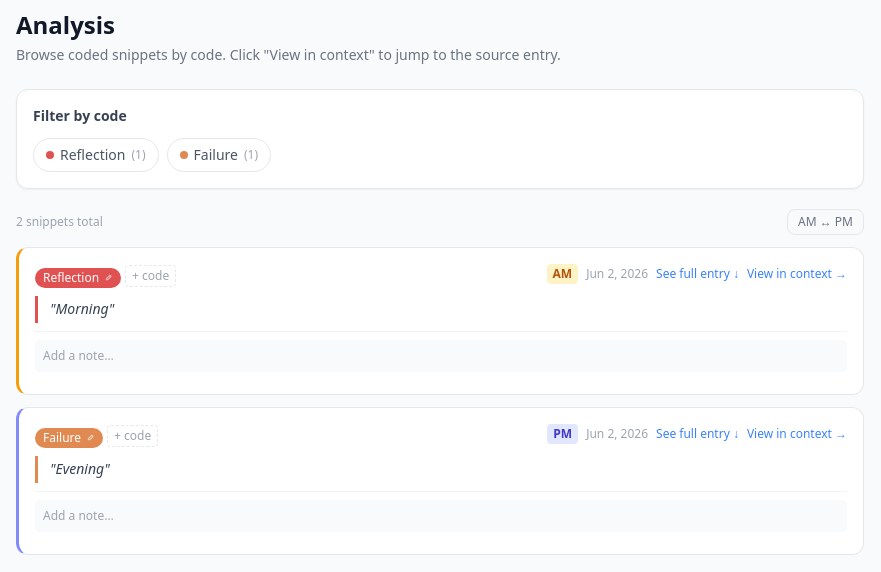
Test: AnalysisView – AM ↔ PM compare mode › disables compare mode when the button is clicked again
The width and height of the screenshot is (881, 572).
Click the button "AM ↔ PM" at point(826, 222), box top-left (787, 209), bottom-right (864, 235)
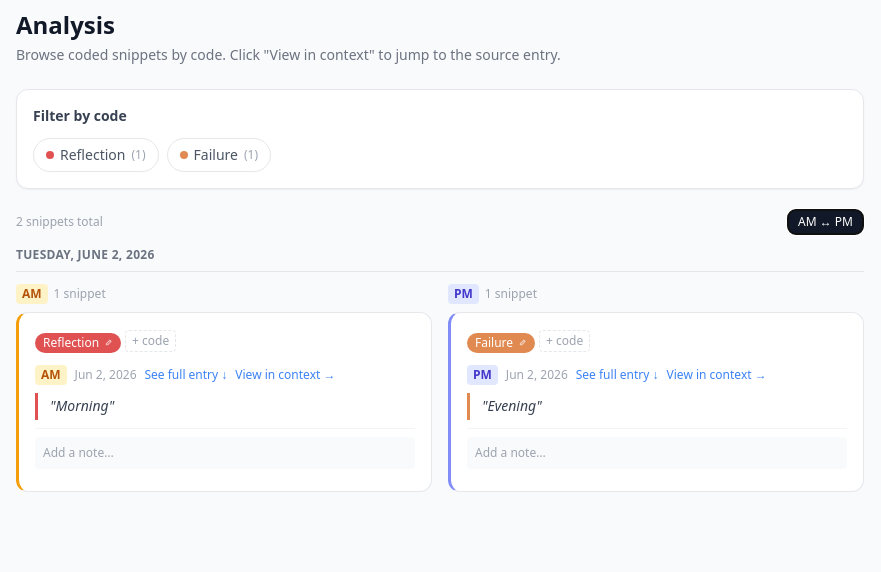
Click the button "AM ↔ PM" at point(826, 222), box top-left (787, 209), bottom-right (864, 235)
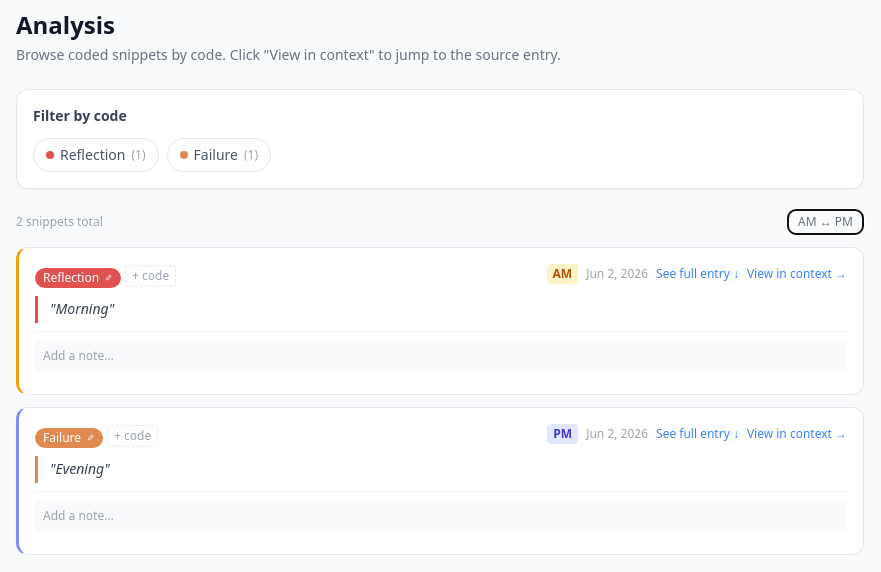
Expected: the heading "Tuesday, June 2, 2026" is gone
